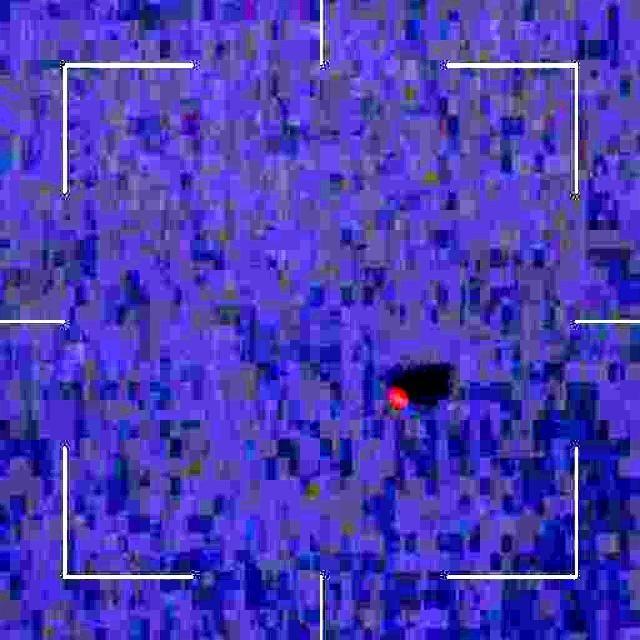bird: (388, 378, 418, 424)
